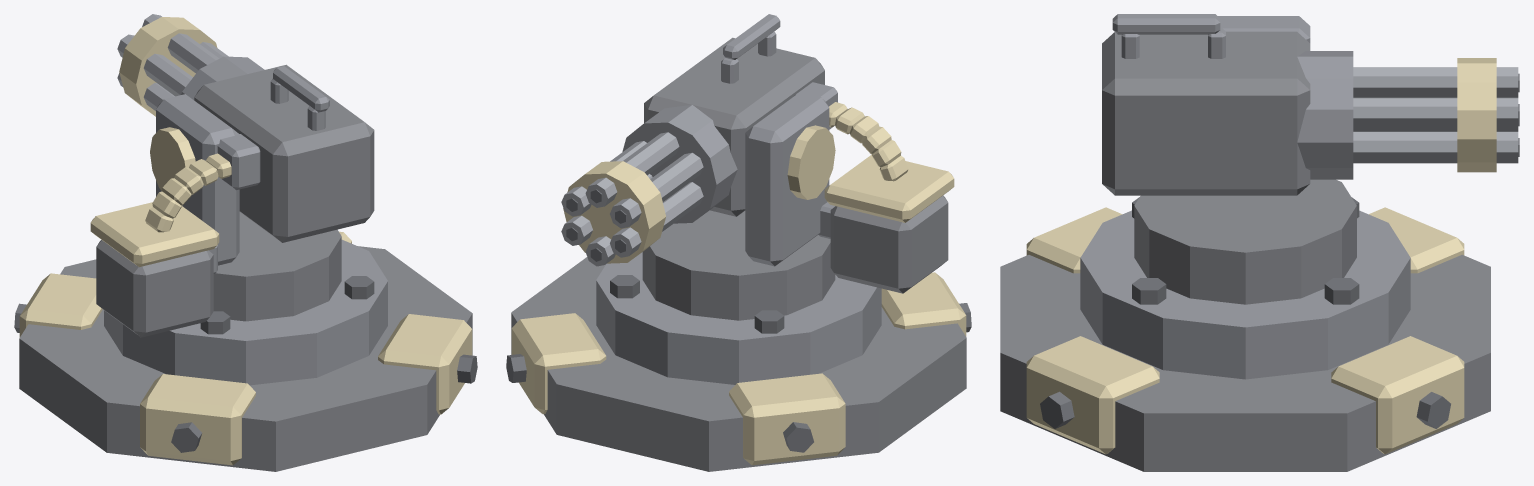
The model's file is Minigun.fbx.
3 views of the same model, side by side, from view 1: azimuth 30°, elevation 25°; view 2: azimuth 150°, elevation 25°; view 3: azimuth 270°, elevation 25° (orthographic). The views are drawn at different scales.
Parts seen in each view (by area): view 1: Minigun.BasePlate, Minigun.HeadReceiver, Minigun.BaseCollar, Minigun.BaseCorners, Minigun.HeadPedestal, Minigun.HeadAmmoBox, Minigun.HeadYoke, Minigun.HeadAmmoLid, Minigun.SpinMuzzleRing, Minigun.SpinBarrels, Minigun.HeadBelt, Minigun.BaseBolts (+4 smaller); view 2: Minigun.BasePlate, Minigun.BaseCollar, Minigun.BaseCorners, Minigun.HeadPedestal, Minigun.HeadReceiver, Minigun.HeadYoke, Minigun.HeadAmmoBox, Minigun.SpinBarrels, Minigun.SpinHousing, Minigun.HeadAmmoLid, Minigun.SpinMuzzleRing, Minigun.HeadPivotDisc (+5 smaller); view 3: Minigun.BasePlate, Minigun.HeadReceiver, Minigun.BaseCollar, Minigun.BaseCorners, Minigun.HeadPedestal, Minigun.SpinBarrels, Minigun.SpinHousing, Minigun.SpinMuzzleRing, Minigun.BaseBolts, Minigun.HeadHandle, Minigun.HeadYoke.
Part boxes in pixels (x1,y1,x2,y2): Minigun.BasePlate: (19, 246, 472, 471); Minigun.HeadReceiver: (194, 64, 374, 242); Minigun.BaseCollar: (104, 239, 387, 385); Minigun.BaseCorners: (19, 231, 472, 465); Minigun.HeadPedestal: (213, 212, 341, 321); Minigun.HeadAmmoBox: (96, 240, 213, 337); Minigun.HeadYoke: (156, 94, 239, 265); Minigun.HeadAmmoLid: (90, 202, 219, 267); Minigun.SpinMuzzleRing: (119, 17, 217, 116); Minigun.SpinBarrels: (117, 14, 228, 110); Minigun.HeadBelt: (145, 153, 231, 232); Minigun.BaseBolts: (14, 276, 477, 452); Minigun.BasePlate: (511, 257, 966, 471); Minigun.BaseCollar: (596, 252, 881, 384); Minigun.BaseCorners: (511, 272, 966, 465); Minigun.HeadPedestal: (642, 210, 835, 320); Minigun.HeadReceiver: (644, 37, 824, 216); Minigun.HeadYoke: (745, 92, 829, 266); Minigun.HeadAmmoBox: (830, 195, 948, 293); Minigun.SpinBarrels: (561, 132, 703, 266); Minigun.SpinHousing: (622, 105, 737, 223); Minigun.HeadAmmoLid: (824, 154, 954, 222); Minigun.SpinMuzzleRing: (563, 161, 666, 263); Minigun.HeadPivotDisc: (787, 125, 835, 199); Minigun.BasePlate: (1000, 254, 1490, 471); Minigun.HeadReceiver: (1102, 31, 1310, 195); Minigun.BaseCollar: (1080, 210, 1410, 379); Minigun.BaseCorners: (1026, 207, 1464, 454); Minigun.HeadPedestal: (1134, 179, 1356, 304); Minigun.SpinBarrels: (1353, 67, 1518, 163); Minigun.SpinHousing: (1297, 51, 1353, 179); Minigun.SpinMuzzleRing: (1457, 58, 1496, 172); Minigun.BaseBolts: (1040, 197, 1450, 428); Minigun.HeadHandle: (1112, 14, 1225, 58); Minigun.HeadYoke: (1218, 16, 1310, 42).
Bounding box in the file's own units: 6.84 × 5.6 × 7.24.
